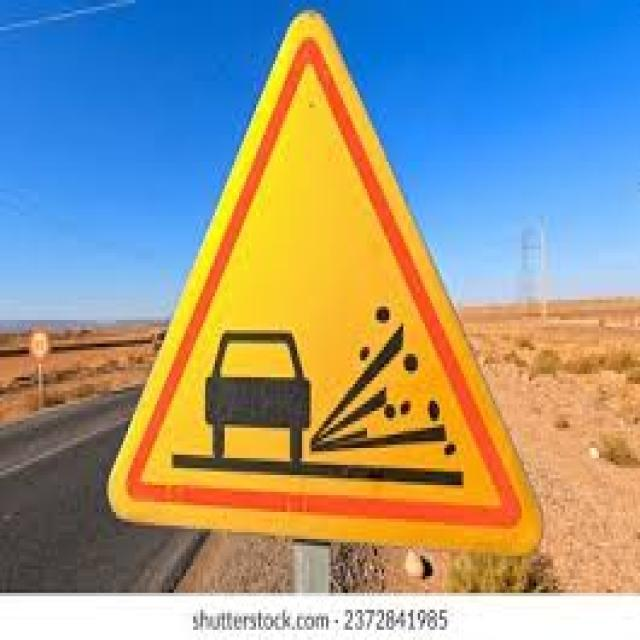loose gravel: (100, 11, 546, 558)
